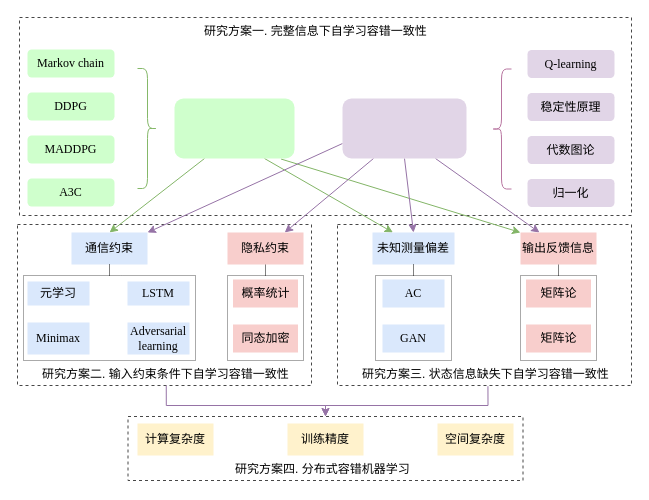
The diagram is 649 pixels wide and 500 high, and some of its shapes have lost their labels. The box of each missing label's shape, as (x1, y1, x2, y2) in pixels:
基于强化学习的框架: (174, 98, 294, 158)
基于试错的自适应框架: (342, 98, 466, 158)
